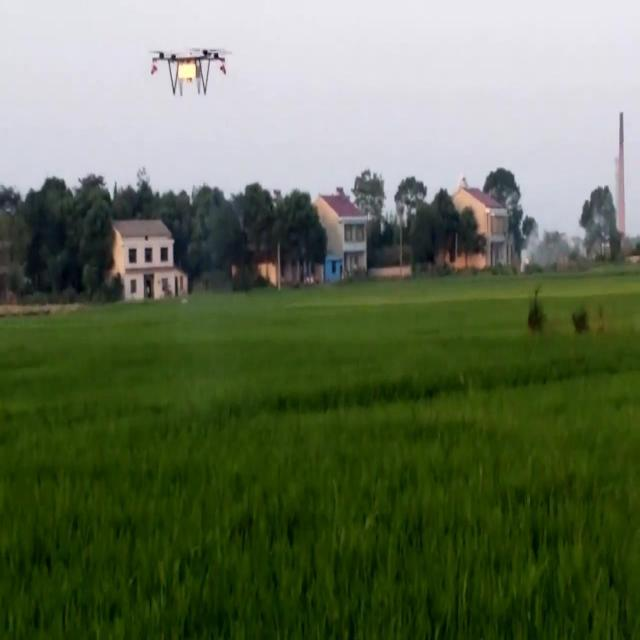UAV: (149, 47, 232, 97)
